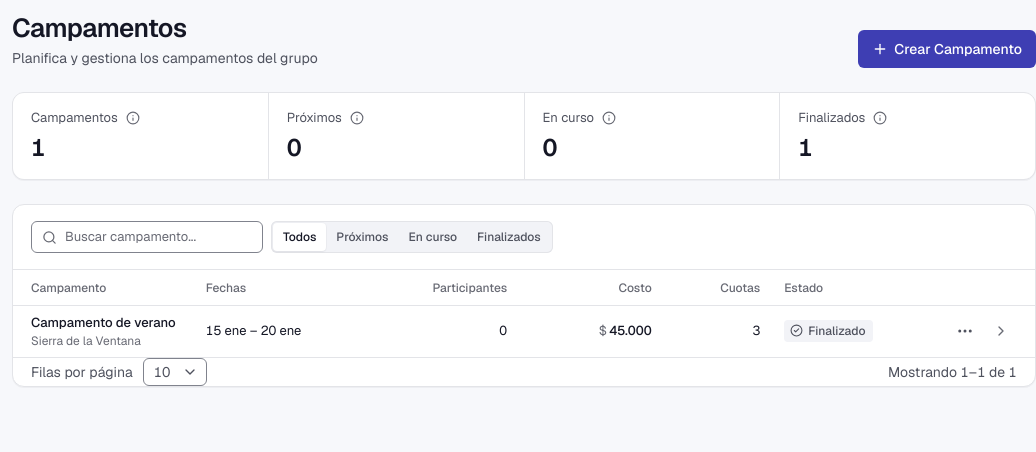
Scenario: CampamentosListView › ⋯ de la fila: Eliminar confirma y lo saca de la lista
The width and height of the screenshot is (1036, 452).
Click the button named "Acciones para Campamento de verano": [965, 331] box [949,315,981,347]
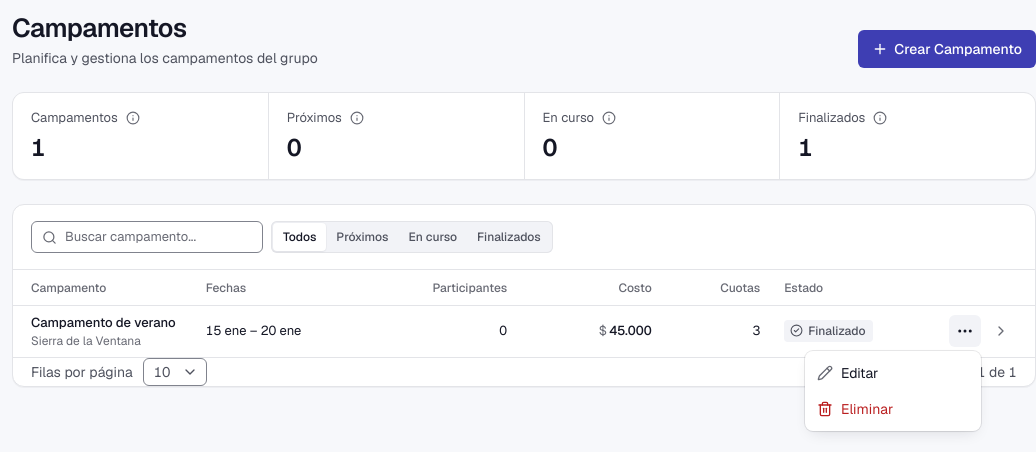
Click the menu item "Eliminar": [855, 409] box [817,400,893,418]
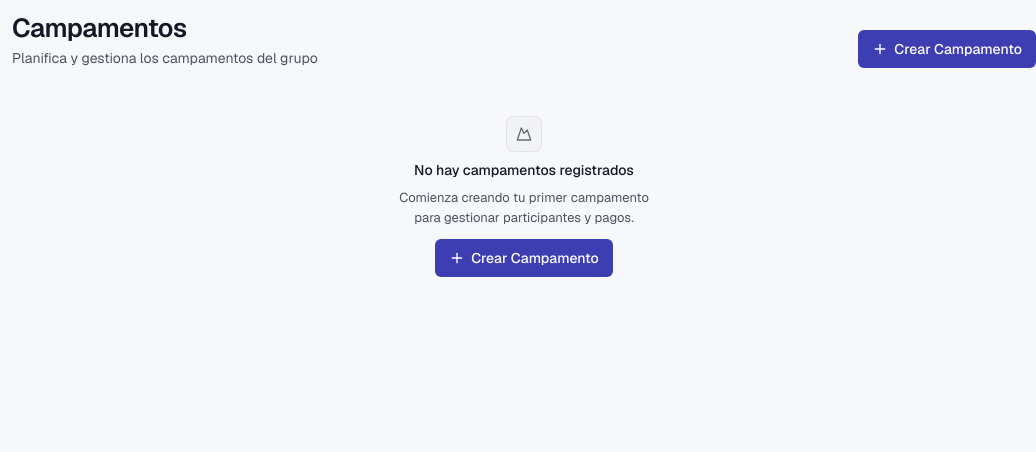
Result: the link "Campamento de verano" is gone
